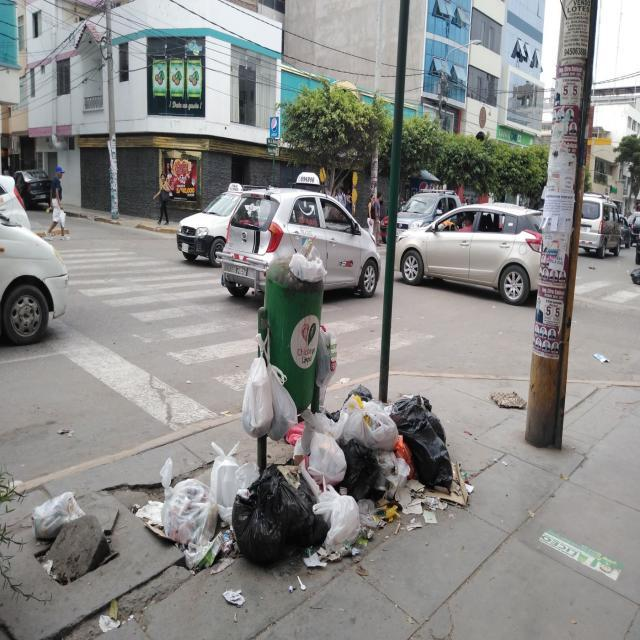garbage: (135, 245, 472, 577)
